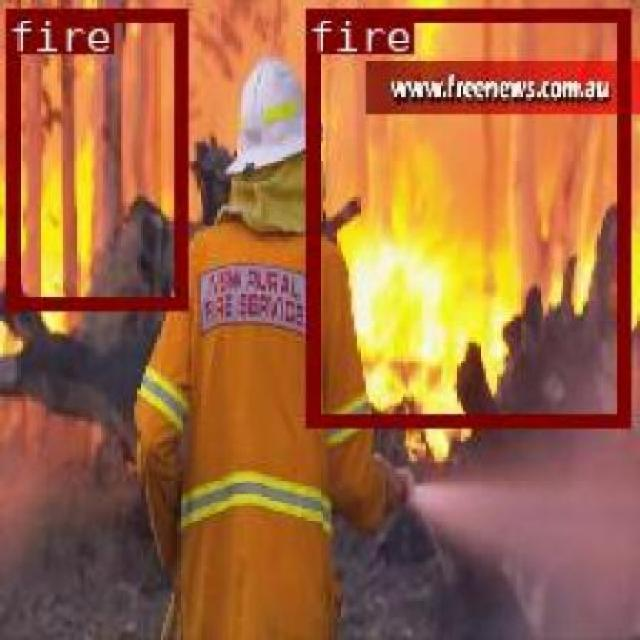Fire: (303, 6, 628, 426), (3, 6, 186, 306)
